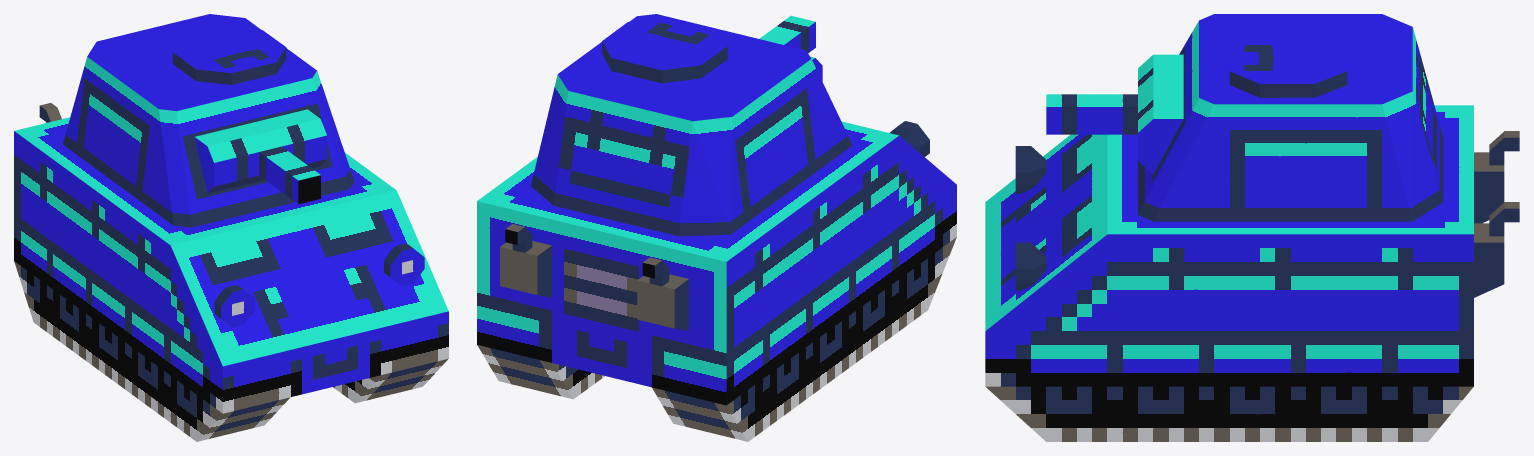
3 views of the same model, side by side, from view 1: azimuth 30°, elevation 25°; view 2: azimuth 150°, elevation 25°; view 3: azimuth 270°, elevation 25° (orthographic). The views are drawn at different scales.
Visible parts, largest first — view 1: tank, tank turret; view 2: tank, tank turret; view 3: tank, tank turret.
Part boxes in pixels (x1,y1,x2,y2): tank: [14, 103, 448, 441]; tank turret: [63, 14, 354, 227]; tank: [477, 121, 956, 441]; tank turret: [531, 14, 852, 236]; tank: [985, 105, 1519, 441]; tank turret: [1046, 14, 1443, 221].
Bounding box in the file's own units: 125 × 150 × 219.
1 material, 1 textured.
